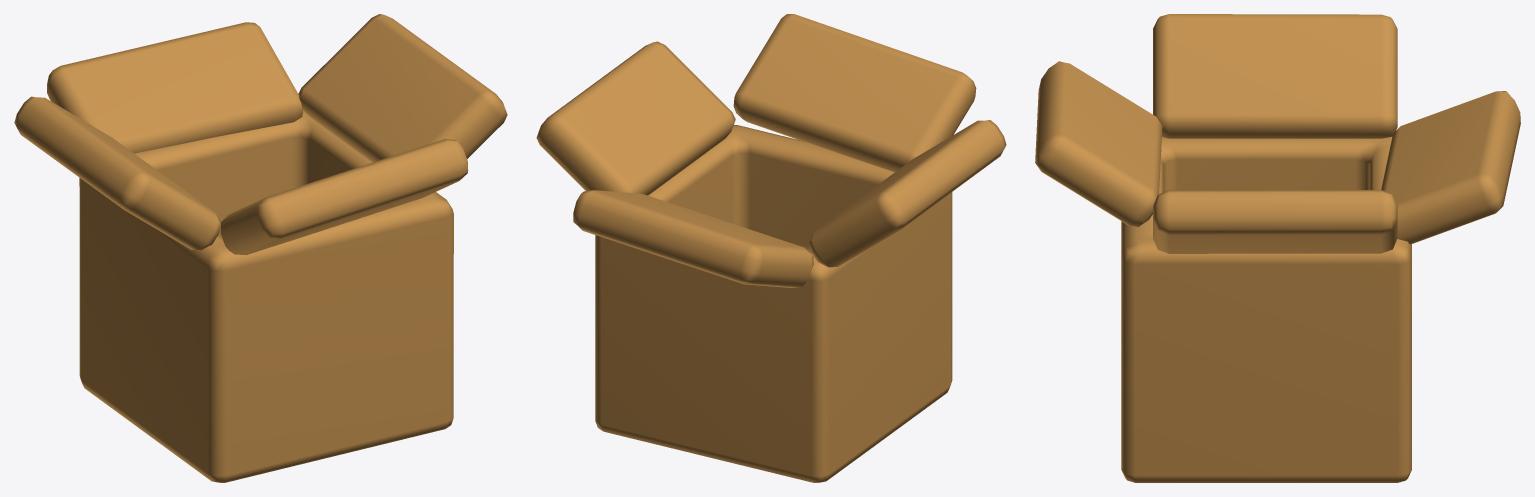
The model's file is carboard.fbx.
The picture shows the model from 3 angles, left to right: view 1: azimuth 30°, elevation 25°; view 2: azimuth 150°, elevation 25°; view 3: azimuth 270°, elevation 25°; orthographic projection. The views are drawn at different scales.
Visible parts, largest first — view 1: cardboard; view 2: cardboard; view 3: cardboard.
Part boxes in pixels (x1,y1,x2,y2): cardboard: (14, 14, 507, 482); cardboard: (536, 14, 1006, 482); cardboard: (1035, 14, 1520, 482).
Size of the model in its own units: 1.58 by 1.27 by 1.67.
